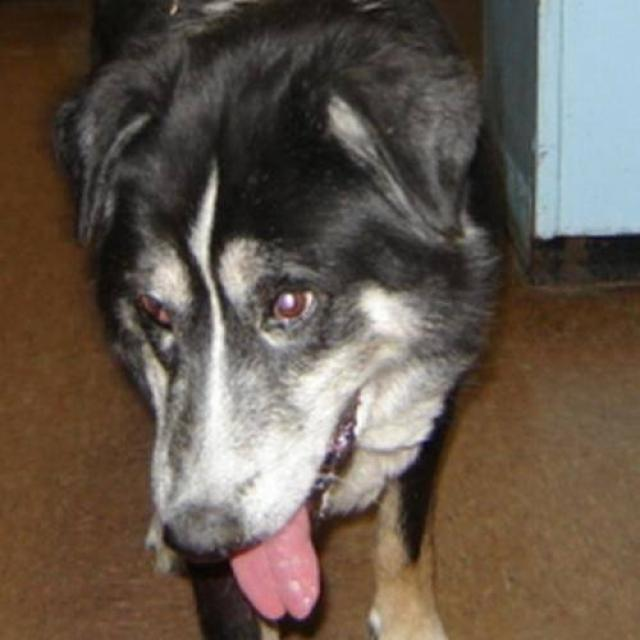dog: (50, 0, 513, 639)
